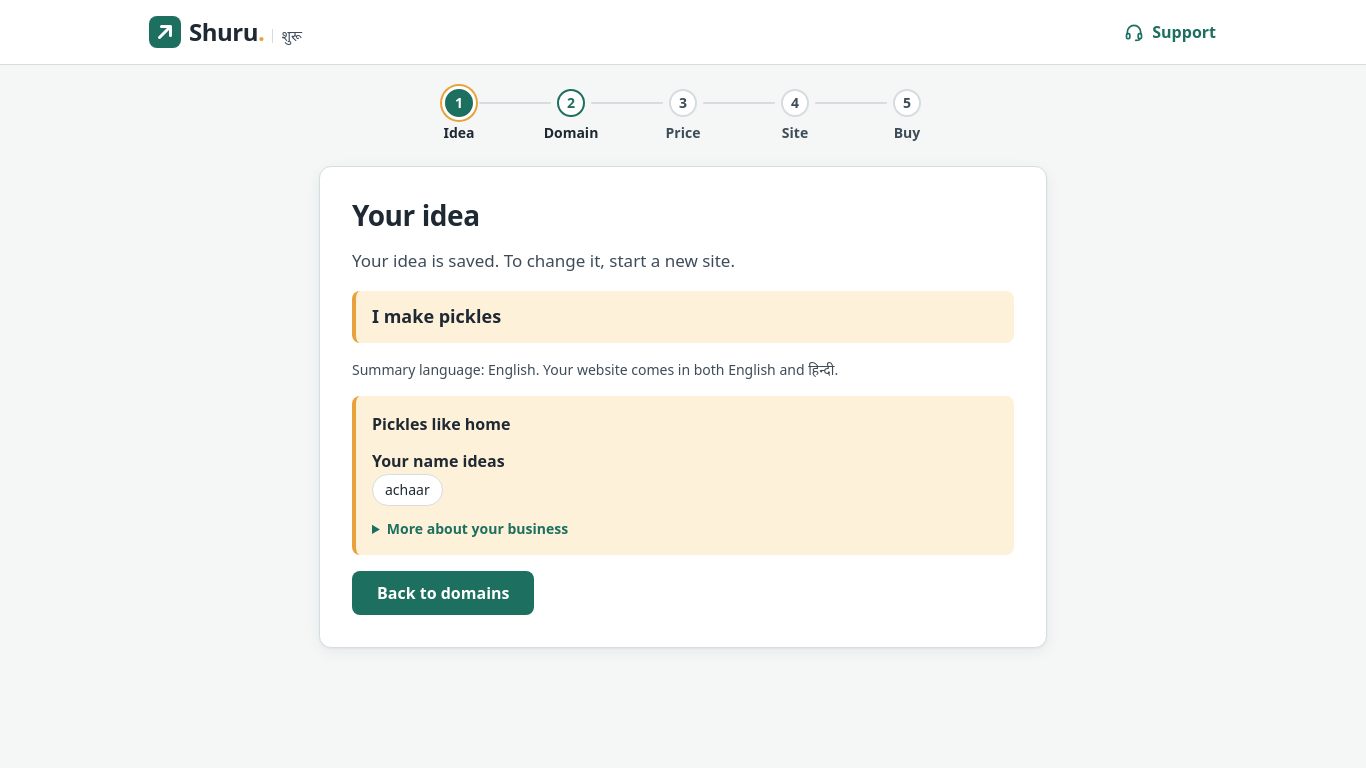
Test: after the idea is submitted › shows the idea read-only when the user goes back to the Idea step
The image size is (1366, 768).
expect the heading "Your idea" is shown: met, box [352, 196, 480, 234]
expect the text "I make pickles" is shown: met, box [352, 291, 1014, 343]
Click the button "Back to domains": (443, 593) [352, 571, 534, 615]
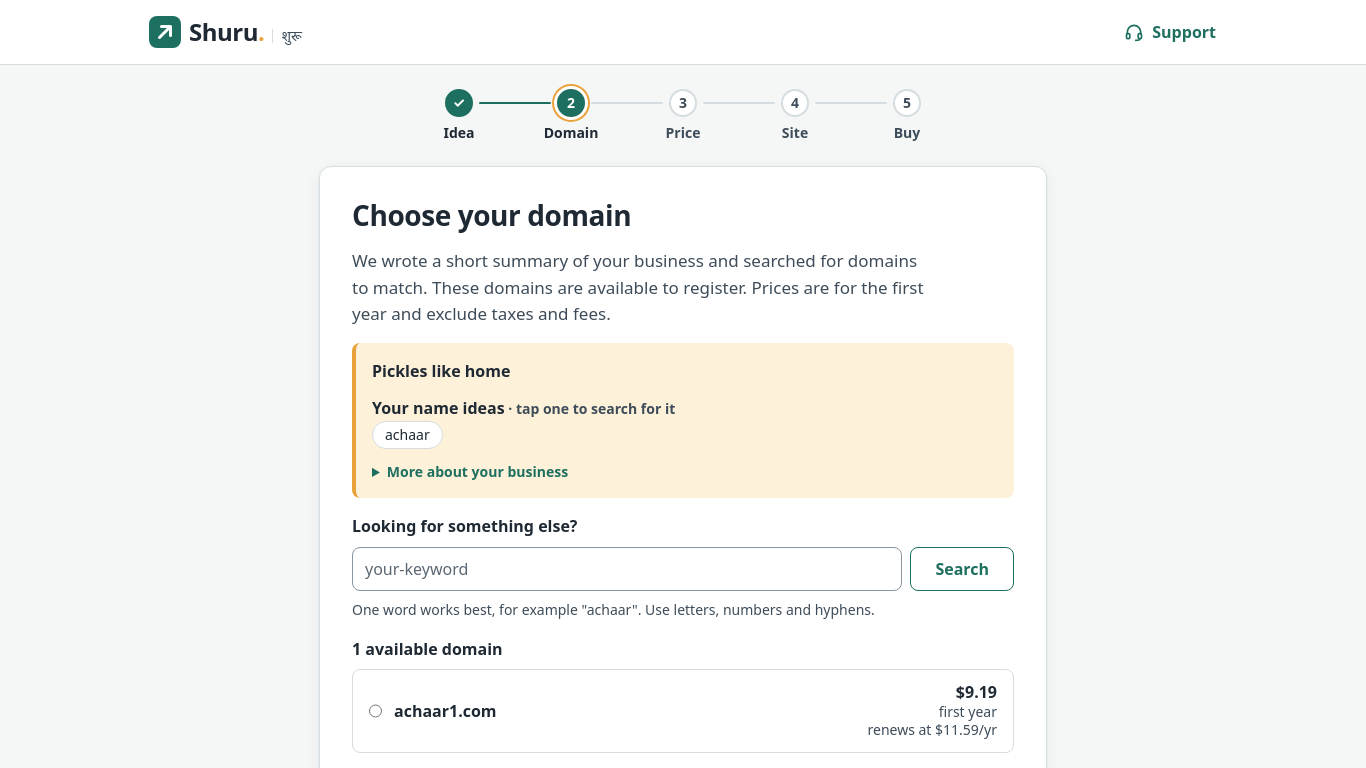
expect the heading "Choose your domain" is shown: met, box [352, 196, 631, 234]
